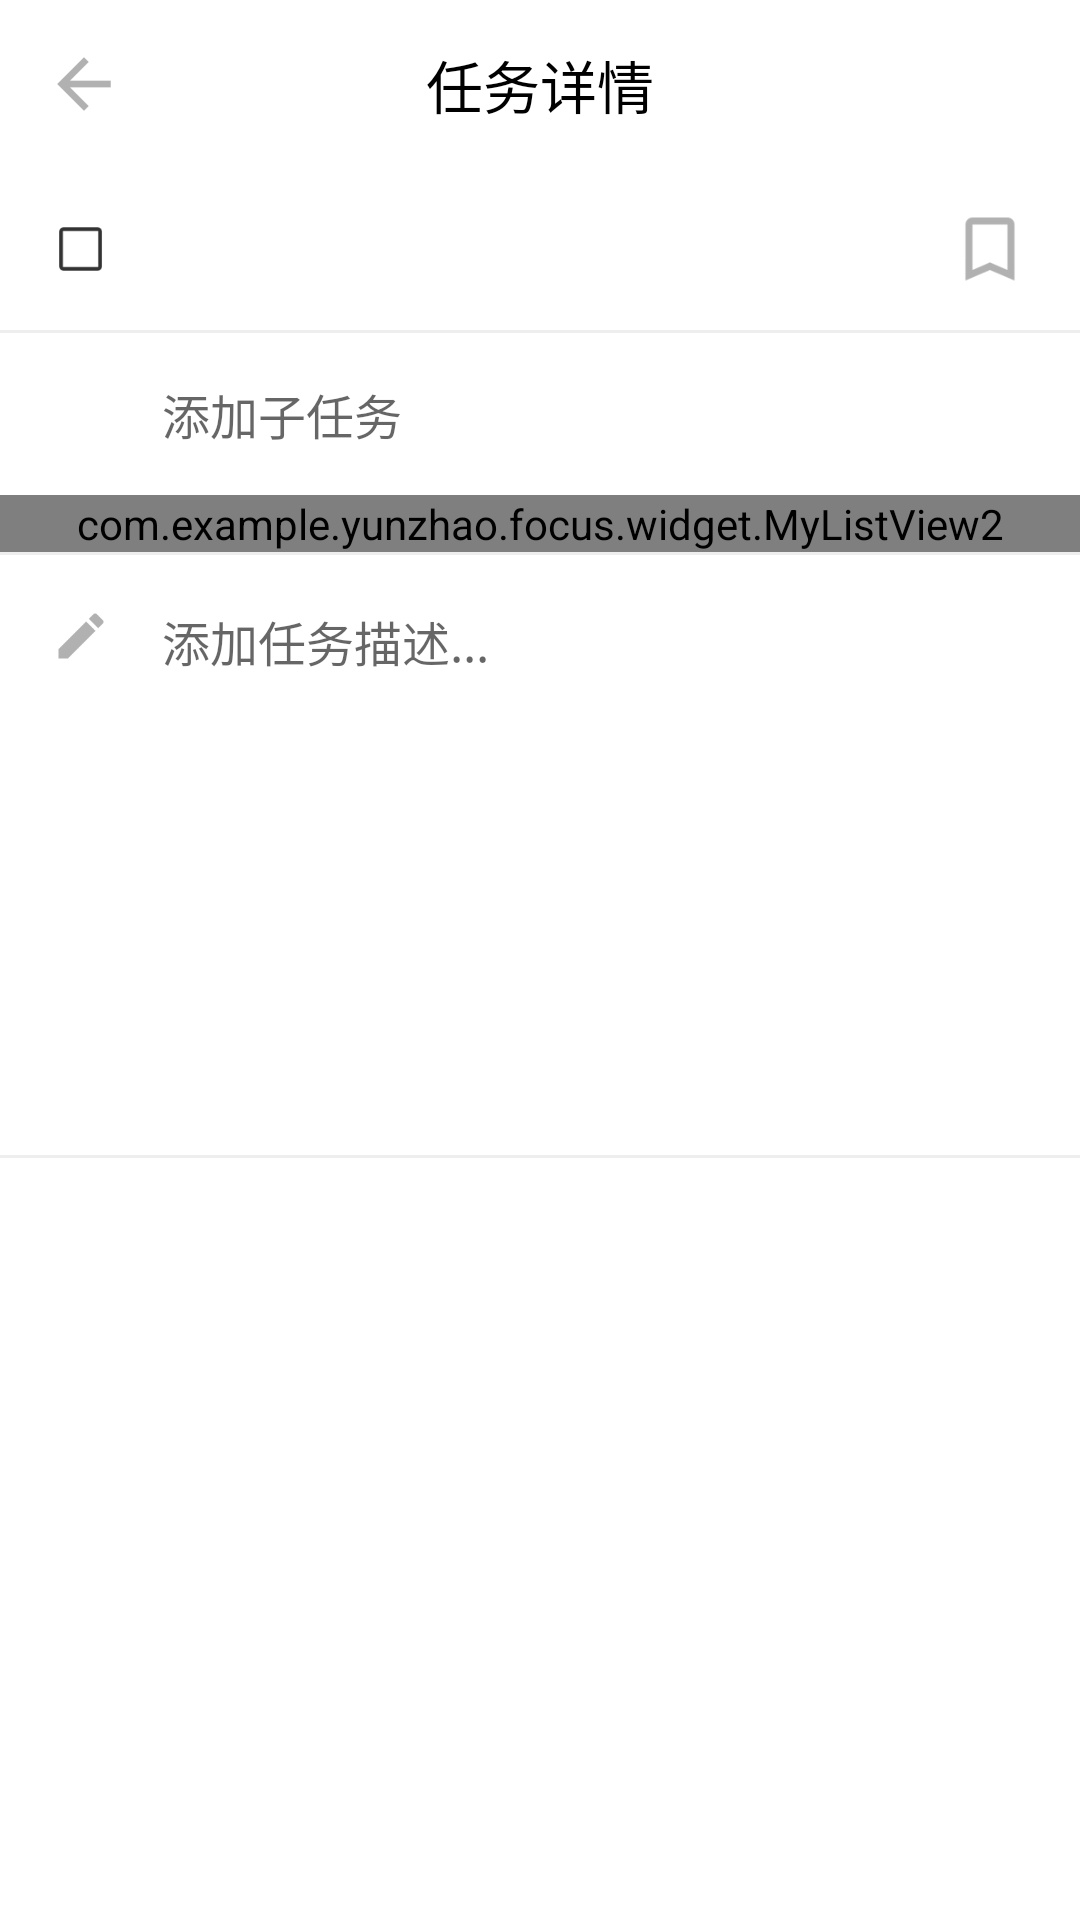

Screen size 1080w x 1920h. Icon name, then its center in pixels as (x=x, y=y):
description: (x=81, y=636)
